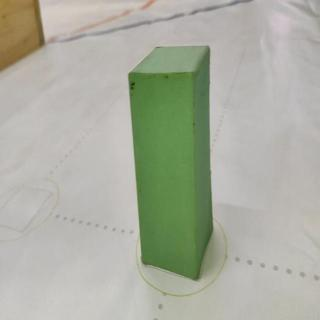greenbox: (127, 43, 214, 282)
